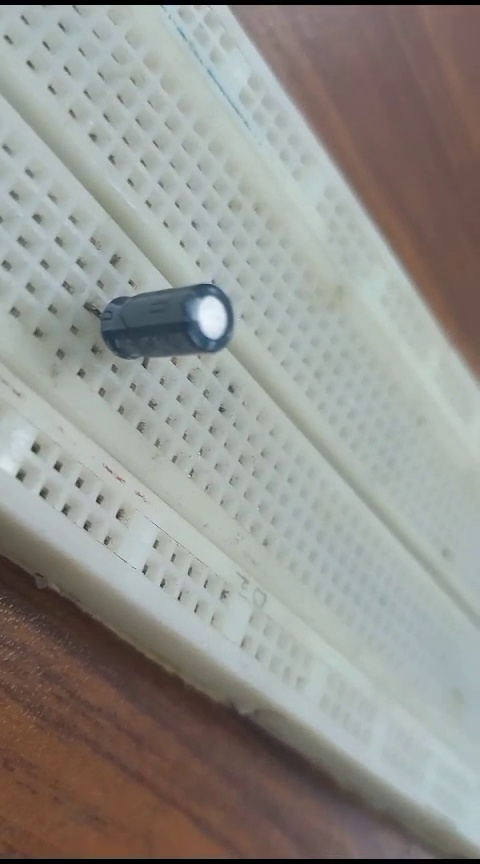capacitor: (76, 271, 238, 369)
